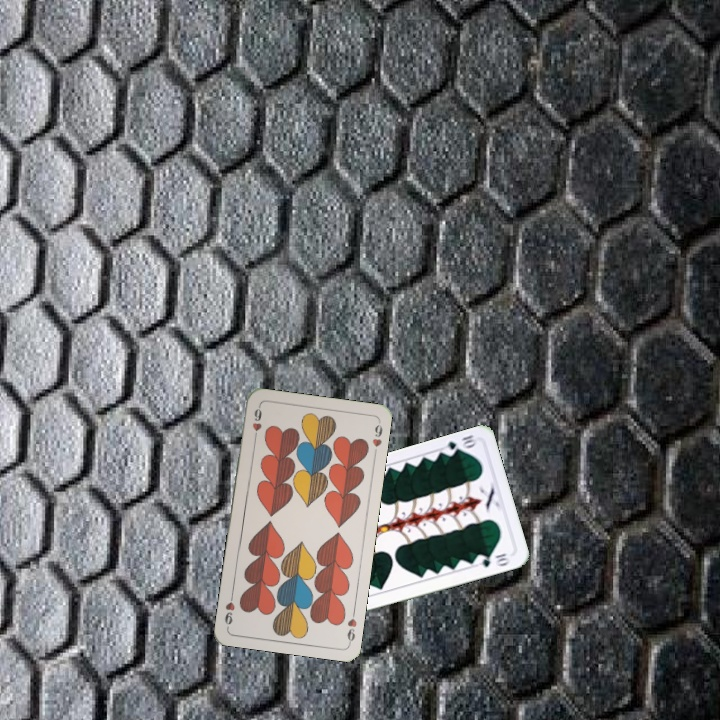G10: (439, 431, 478, 458)
H9: (248, 402, 264, 443), (343, 606, 359, 646)
